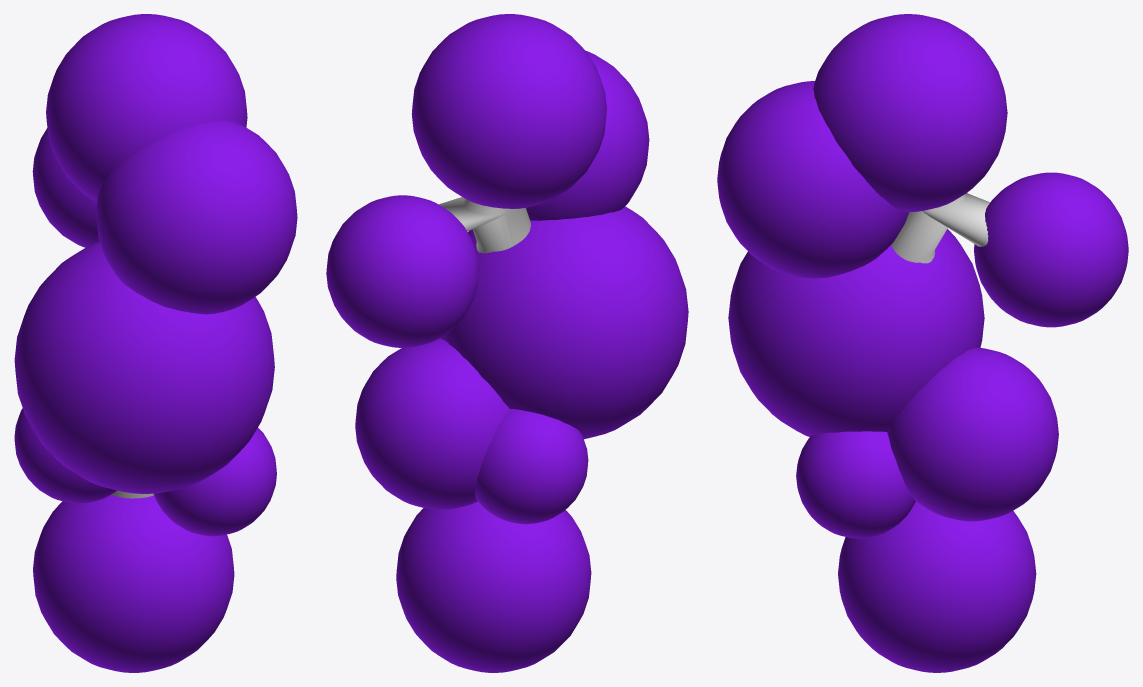
The model's file is Terminal_Grappe.fbx.
3 views of the same model, side by side, from view 1: azimuth 30°, elevation 25°; view 2: azimuth 150°, elevation 25°; view 3: azimuth 270°, elevation 25° (orthographic). The views are drawn at different scales.
Visible parts, largest first — view 1: Sphere.007, Sphere.002, Sphere, Sphere.006, Sphere.004, Sphere.001, Sphere.005; view 2: Sphere.007, Sphere.006, Sphere, Sphere.003, Sphere.001, Sphere.005, Sphere.002, Cylinder; view 3: Sphere.007, Sphere.006, Sphere, Sphere.002, Sphere.003, Sphere.001, Sphere.004, Cylinder.
Part boxes in pixels (box(x1,y1,x2,y2)): Sphere.007: box(14, 241, 274, 493); Sphere.002: box(96, 120, 297, 314); Sphere: box(33, 494, 234, 672); Sphere.006: box(46, 14, 247, 201); Sphere.004: box(153, 428, 276, 536); Sphere.001: box(32, 128, 99, 247); Sphere.005: box(14, 408, 116, 503); Sphere.007: box(439, 206, 688, 439); Sphere.006: box(411, 14, 606, 208); Sphere: box(396, 502, 591, 672); Sphere.003: box(355, 338, 509, 509); Sphere.001: box(326, 195, 478, 347); Sphere.005: box(475, 409, 588, 524); Sphere.002: box(526, 51, 649, 220); Cylinder: box(439, 197, 530, 502); Sphere.007: box(728, 229, 984, 436); Sphere.006: box(813, 14, 1007, 212); Sphere: box(838, 501, 1036, 672); Sphere.002: box(717, 81, 908, 278); Sphere.003: box(887, 347, 1058, 521); Sphere.001: box(974, 172, 1128, 327); Sphere.004: box(796, 431, 915, 538); Cylinder: box(891, 193, 989, 263).
Bounding box in the file's own units: 293 × 712 × 415.
